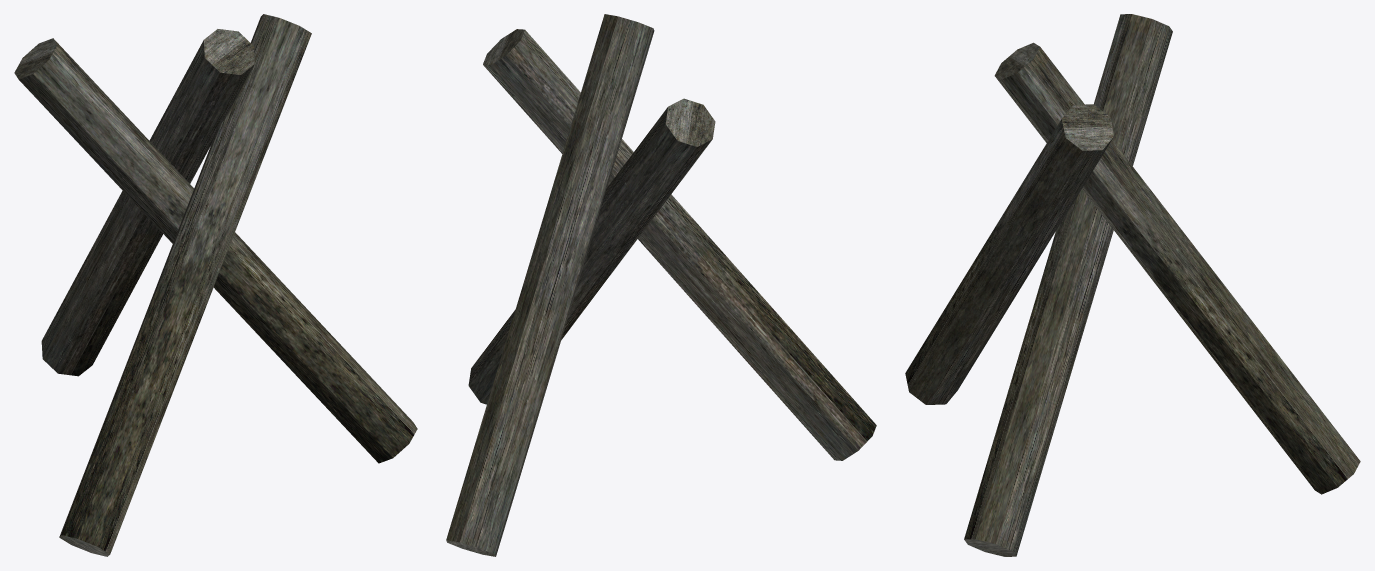
Rendered from hedg.obj.
3 views of the same model, side by side, from view 1: azimuth 30°, elevation 25°; view 2: azimuth 150°, elevation 25°; view 3: azimuth 270°, elevation 25° (orthographic). The views are drawn at different scales.
Visible parts, largest first — view 1: Cylinder.001; view 2: Cylinder.001; view 3: Cylinder.001.
Part boxes in pixels (box(x1,y1,x2,y2)): Cylinder.001: box(14, 14, 417, 556); Cylinder.001: box(446, 14, 876, 556); Cylinder.001: box(905, 14, 1360, 556).
Bounding box in the file's own units: 7.78 × 8.77 × 8.15.
